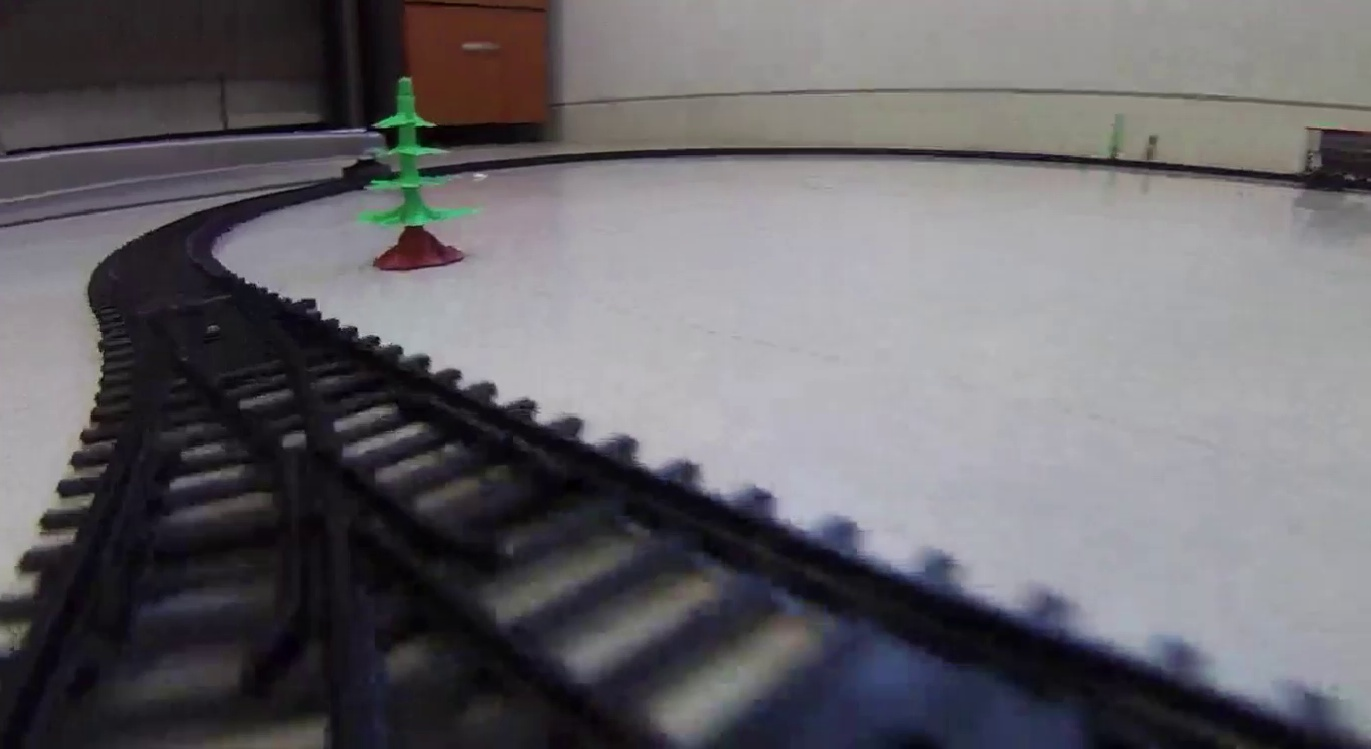tree: (356, 77, 475, 269)
